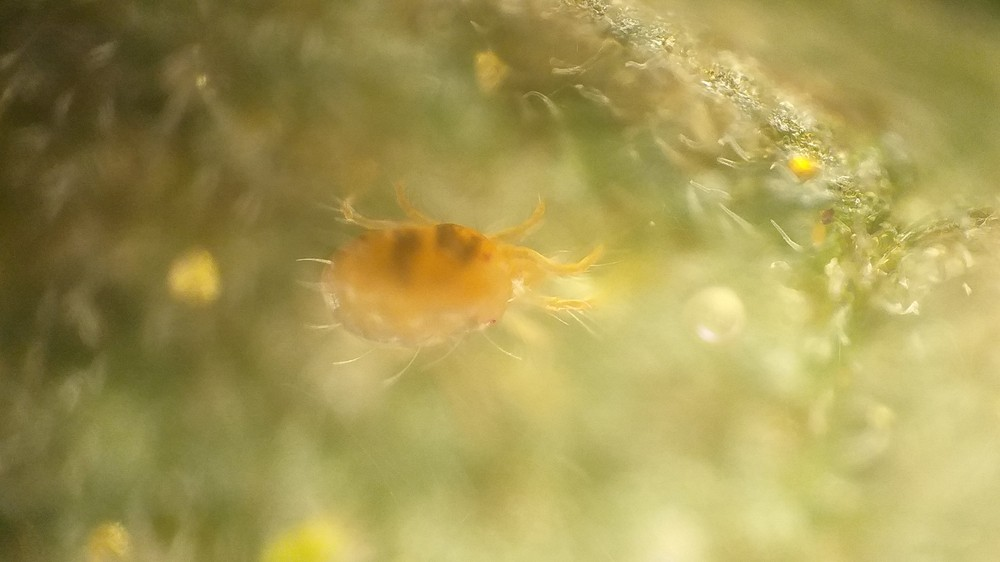Aracnido Rojo: (282, 159, 672, 387)
